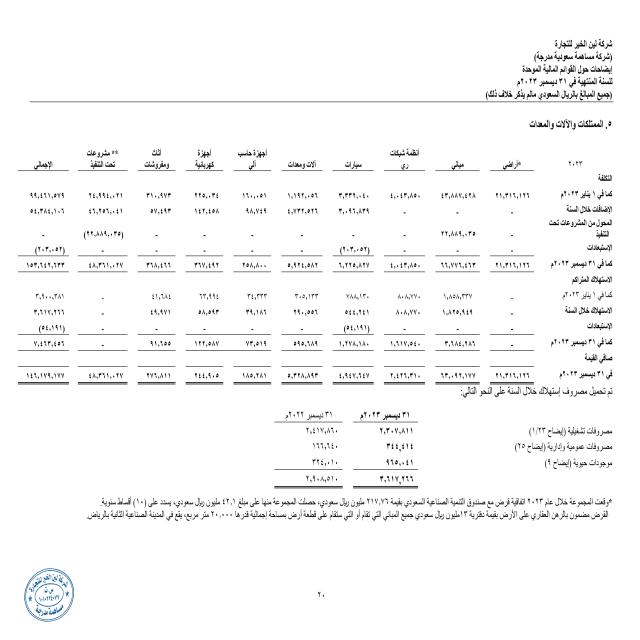notes: (518, 62, 622, 78)
table: (14, 146, 542, 393), (261, 406, 433, 491)
